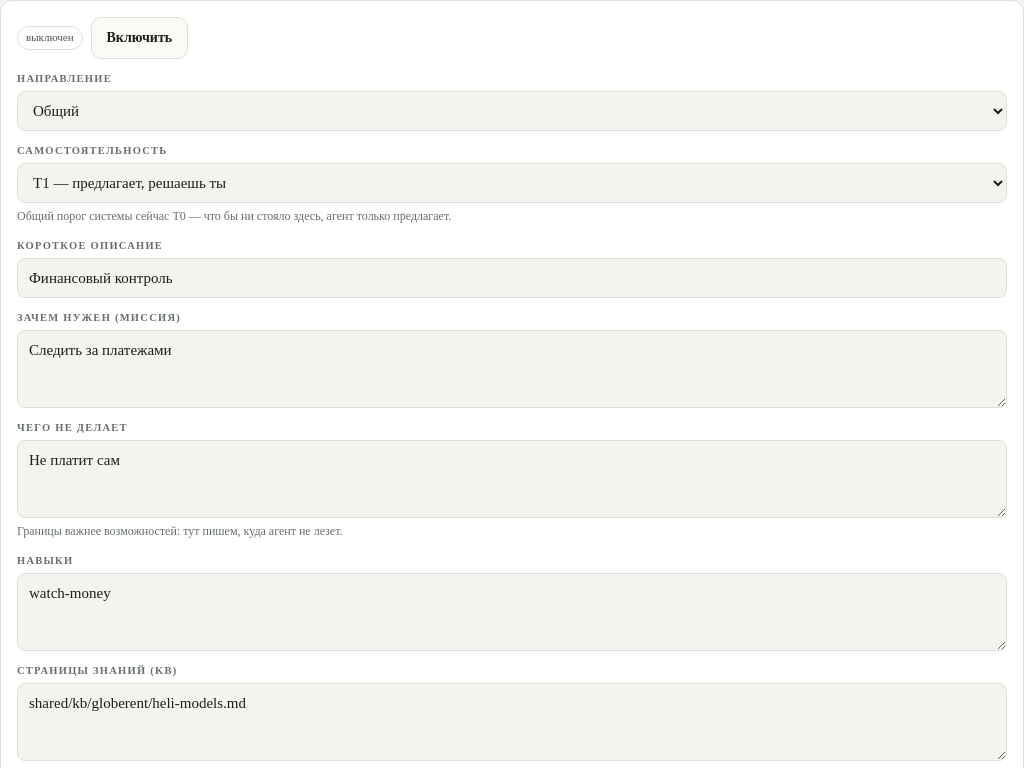
формы агентов › показывает ошибку включения агента
The width and height of the screenshot is (1024, 768).
Click the button "Включить". click: (139, 38)
box: [90, 17, 188, 59]
(page scrolled)
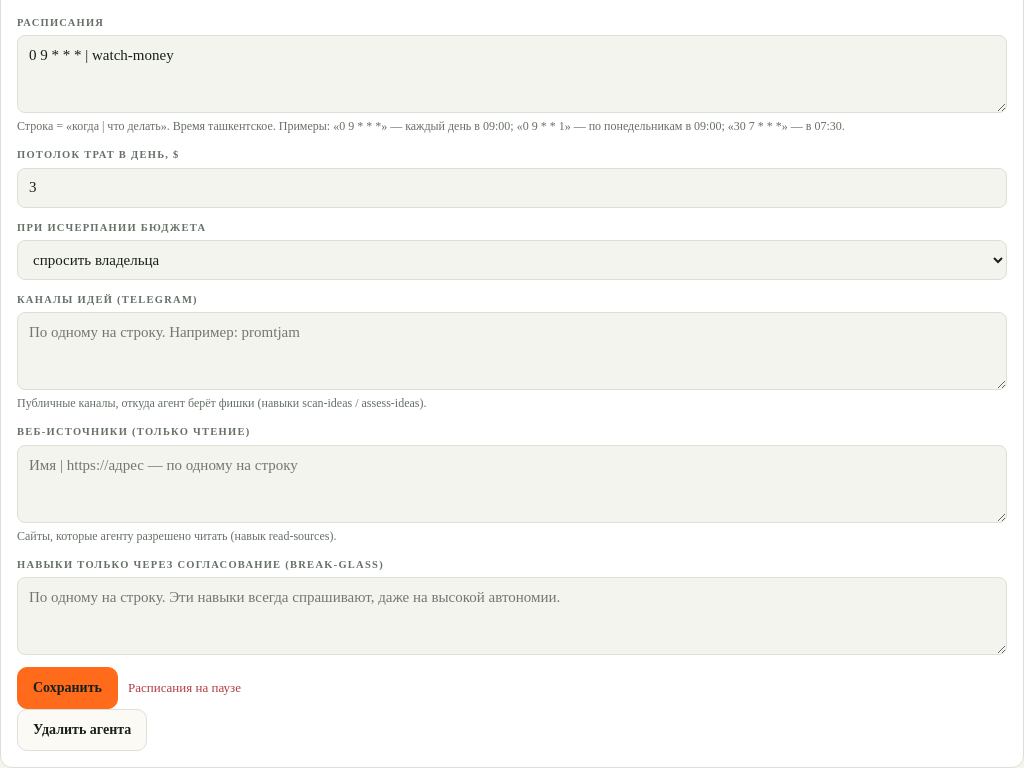
Expected: the text "Расписания на паузе" is shown, [128, 679, 241, 698]
